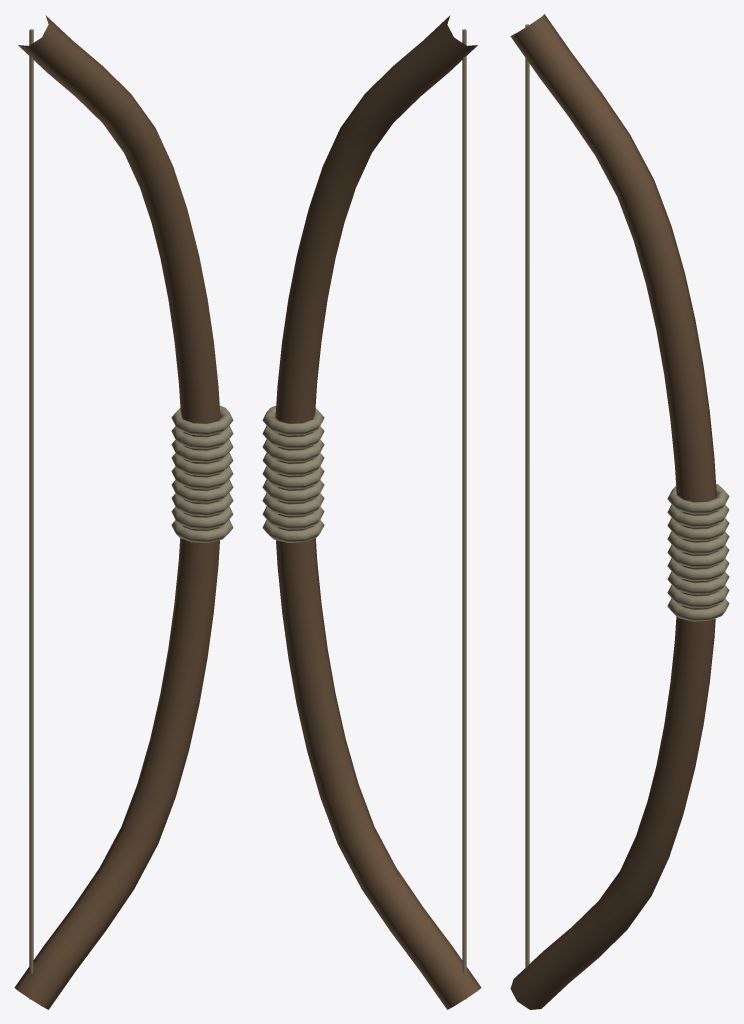
The model's file is bow.glb.
3 views of the same model, side by side, from view 1: azimuth 30°, elevation 25°; view 2: azimuth 150°, elevation 25°; view 3: azimuth 330°, elevation 25° (orthographic).
Size of the model in its own units: 0.2975 by 1.33 by 0.0723.
